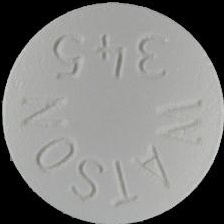54868-0121: (0, 0, 224, 224)
